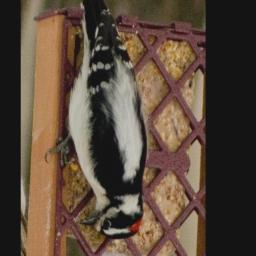Woodpecker: (45, 0, 146, 239)
